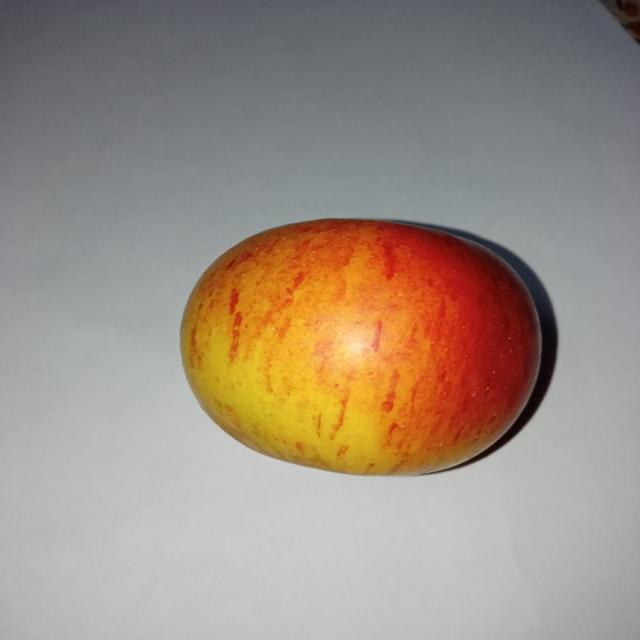fresh_apple: (179, 218, 543, 474)
